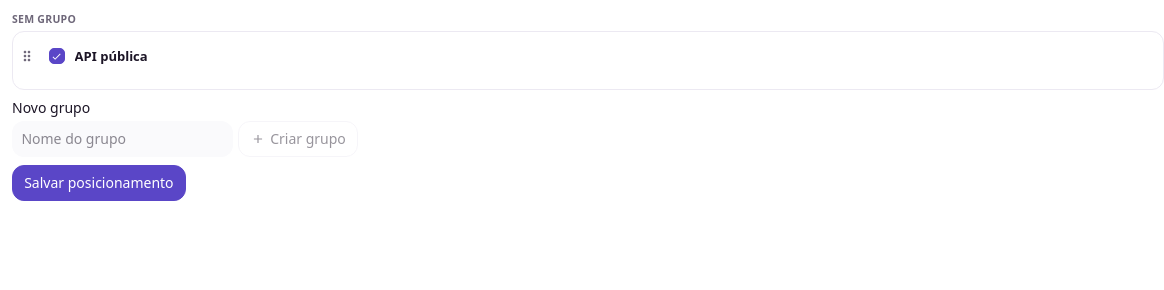
ServiceGroupPanel › creates a group inline via useCreateGroup and renders a new section for it
The width and height of the screenshot is (1164, 290).
In the field labelled "Novo grupo": coordinates (122, 139) x1=12 y1=121 x2=233 y2=157, type "Pagamentos"
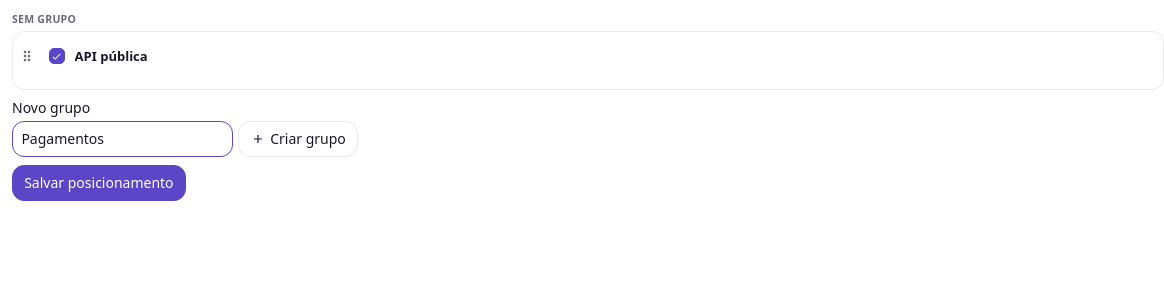
Click the button "Criar grupo": coordinates (298, 139) x1=238 y1=121 x2=358 y2=157
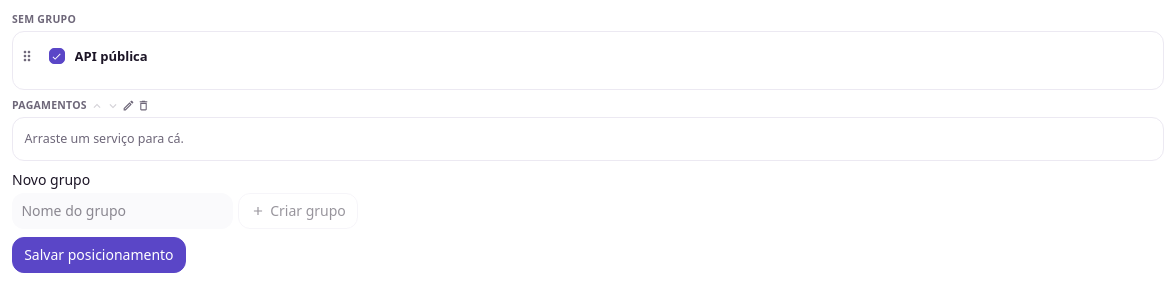
Now the text "Pagamentos" is shown, box x1=12 y1=98 x2=87 y2=114
